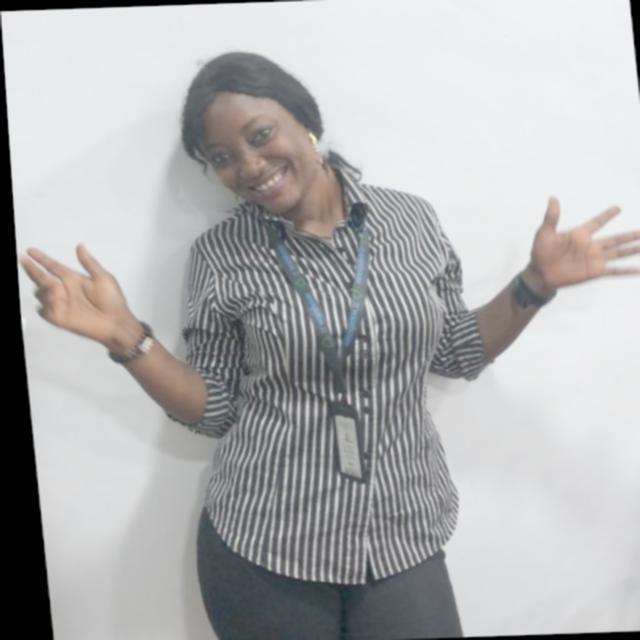happy: (167, 62, 337, 222)
